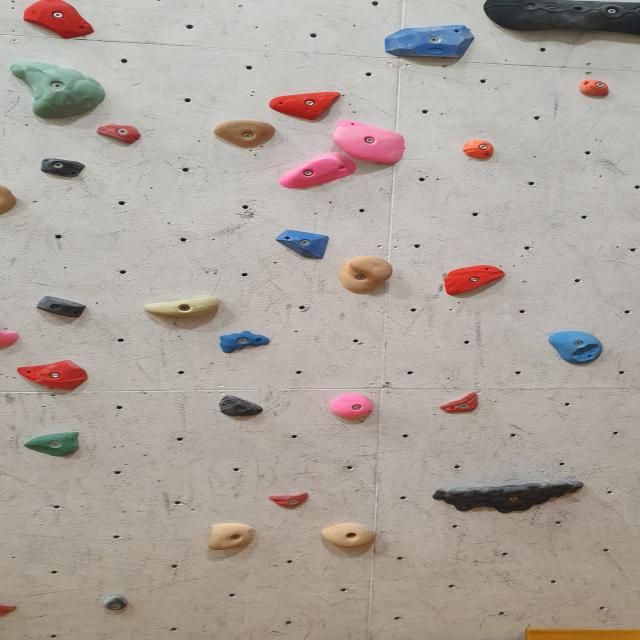Crimp: (387, 25, 474, 60), (280, 153, 352, 191), (22, 0, 88, 41), (23, 360, 85, 391), (268, 93, 340, 119), (448, 265, 503, 295), (215, 396, 266, 418), (96, 124, 140, 144), (270, 492, 317, 508), (444, 394, 480, 414)
Jug: (435, 479, 580, 515), (332, 122, 406, 165), (335, 257, 390, 294), (214, 118, 284, 147), (321, 522, 380, 551), (208, 520, 252, 550)
Pinch: (147, 293, 220, 320), (39, 295, 87, 319), (330, 394, 371, 419), (42, 158, 84, 178), (576, 77, 612, 98), (465, 140, 498, 162), (102, 597, 126, 611)
Sloper: (482, 0, 640, 33), (18, 61, 102, 119), (280, 228, 332, 260), (552, 330, 598, 364), (28, 431, 84, 454), (214, 330, 266, 352)
